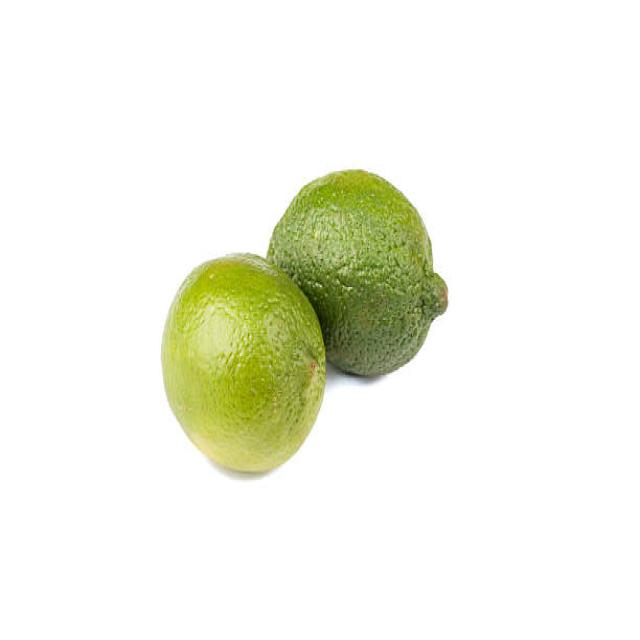Unripe: (264, 166, 450, 380), (160, 251, 326, 474)
